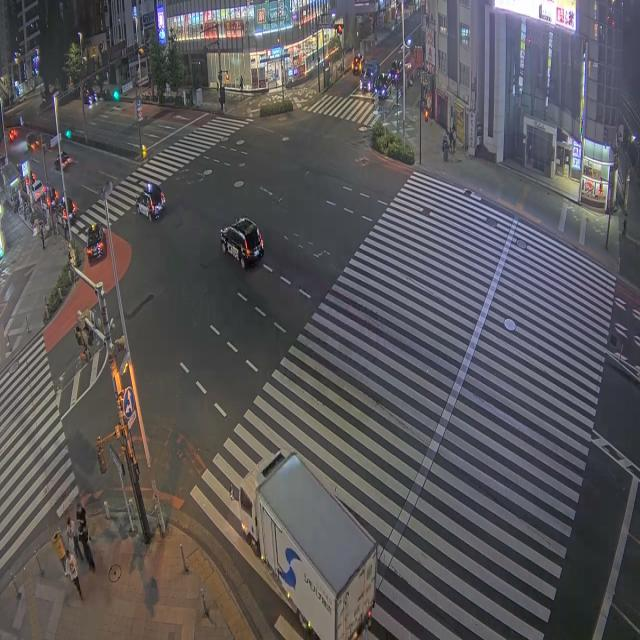car: (221, 218, 263, 268), (137, 183, 165, 220), (54, 191, 77, 224), (86, 224, 105, 261), (360, 59, 379, 92), (374, 74, 391, 100), (360, 69, 375, 92), (389, 60, 403, 82), (55, 152, 71, 169), (27, 133, 41, 151), (83, 88, 97, 106), (33, 180, 45, 201), (352, 54, 362, 74), (8, 128, 18, 142)
truck: (238, 451, 377, 639)
